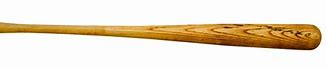bat: (1, 20, 322, 52)
